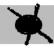not correct: (6, 4, 54, 47)
